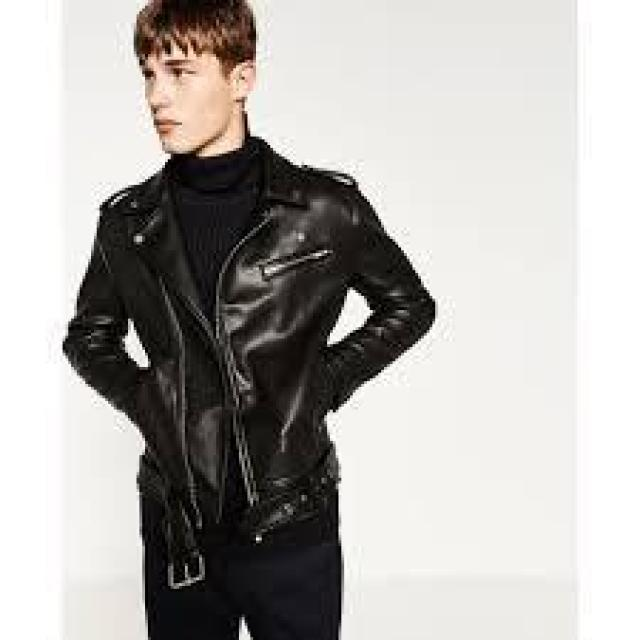jacket: (60, 140, 435, 574)
